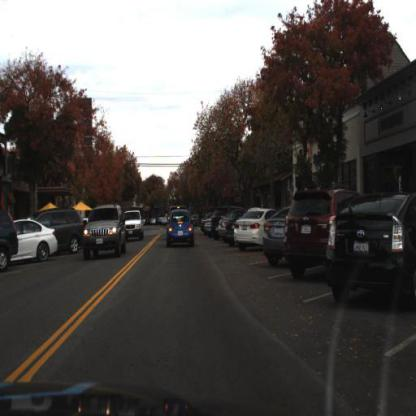car: (324, 185, 416, 316), (280, 185, 365, 281), (80, 198, 129, 262), (33, 209, 88, 258), (233, 207, 283, 257), (11, 218, 59, 263), (259, 205, 296, 260), (1, 213, 23, 272), (167, 209, 196, 249), (122, 209, 146, 240)
